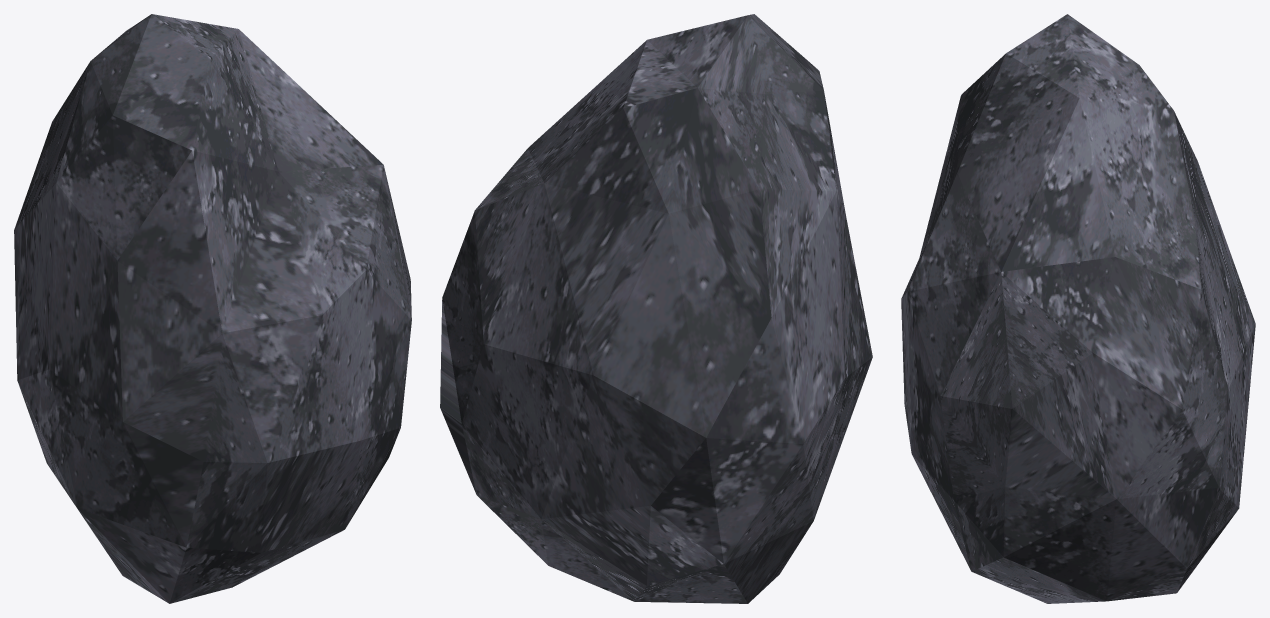
Rendered from rock.obj.
3 renders of one model, left to right at view 1: azimuth 30°, elevation 25°; view 2: azimuth 150°, elevation 25°; view 3: azimuth 270°, elevation 25°, orthographic. The views are drawn at different scales.
Visible parts, largest first — view 1: polygon0; view 2: polygon0; view 3: polygon0.
Boxes of the visible parts, box(x1,y1,x2,y2) form: polygon0: box(14, 14, 411, 603); polygon0: box(440, 14, 872, 603); polygon0: box(901, 14, 1255, 603).
Bounding box in the file's own units: 6.03 × 9.83 × 5.67.
